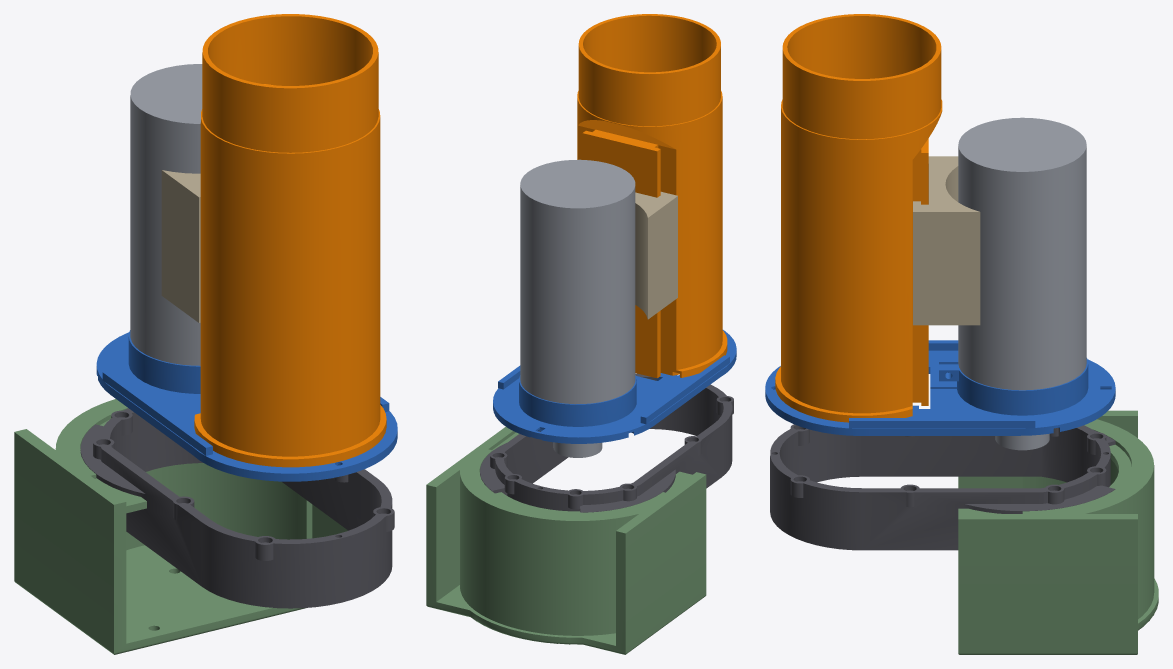
The model's file is dust-shoe.61afe69e78.glb.
3 renders of one model, left to right at view 1: azimuth 30°, elevation 25°; view 2: azimuth 150°, elevation 25°; view 3: azimuth 270°, elevation 25°, orthographic. The views are drawn at different scales.
Visible parts, largest first — view 1: AdaptateurV2, Quai, BrosseV2, Broche, SemelleV2, PorteCoulisse; view 2: Quai, AdaptateurV2, Broche, BrosseV2, SemelleV2, PorteCoulisse; view 3: AdaptateurV2, Quai, Broche, BrosseV2, SemelleV2, PorteCoulisse.
Part boxes in pixels (box(x1,y1,x2,y2)): AdaptateurV2: box(194, 14, 386, 467); Quai: box(14, 399, 347, 654); BrosseV2: box(80, 408, 394, 608); Broche: box(130, 64, 202, 365); SemelleV2: box(96, 330, 397, 481); PorteCoulisse: box(161, 170, 200, 322); Quai: box(426, 427, 706, 654); AdaptateurV2: box(577, 14, 727, 378); Broche: box(520, 159, 635, 457); BrosseV2: box(480, 373, 733, 512); SemelleV2: box(493, 330, 736, 443); PorteCoulisse: box(635, 191, 677, 319); AdaptateurV2: box(775, 14, 942, 422); Quai: box(958, 410, 1158, 654); Broche: box(958, 117, 1086, 450); BrosseV2: box(770, 424, 1115, 550); SemelleV2: box(765, 340, 1115, 435); PorteCoulisse: box(913, 156, 980, 325).
Bounding box in the file's own units: 0.16 × 0.3809 × 0.2452.
